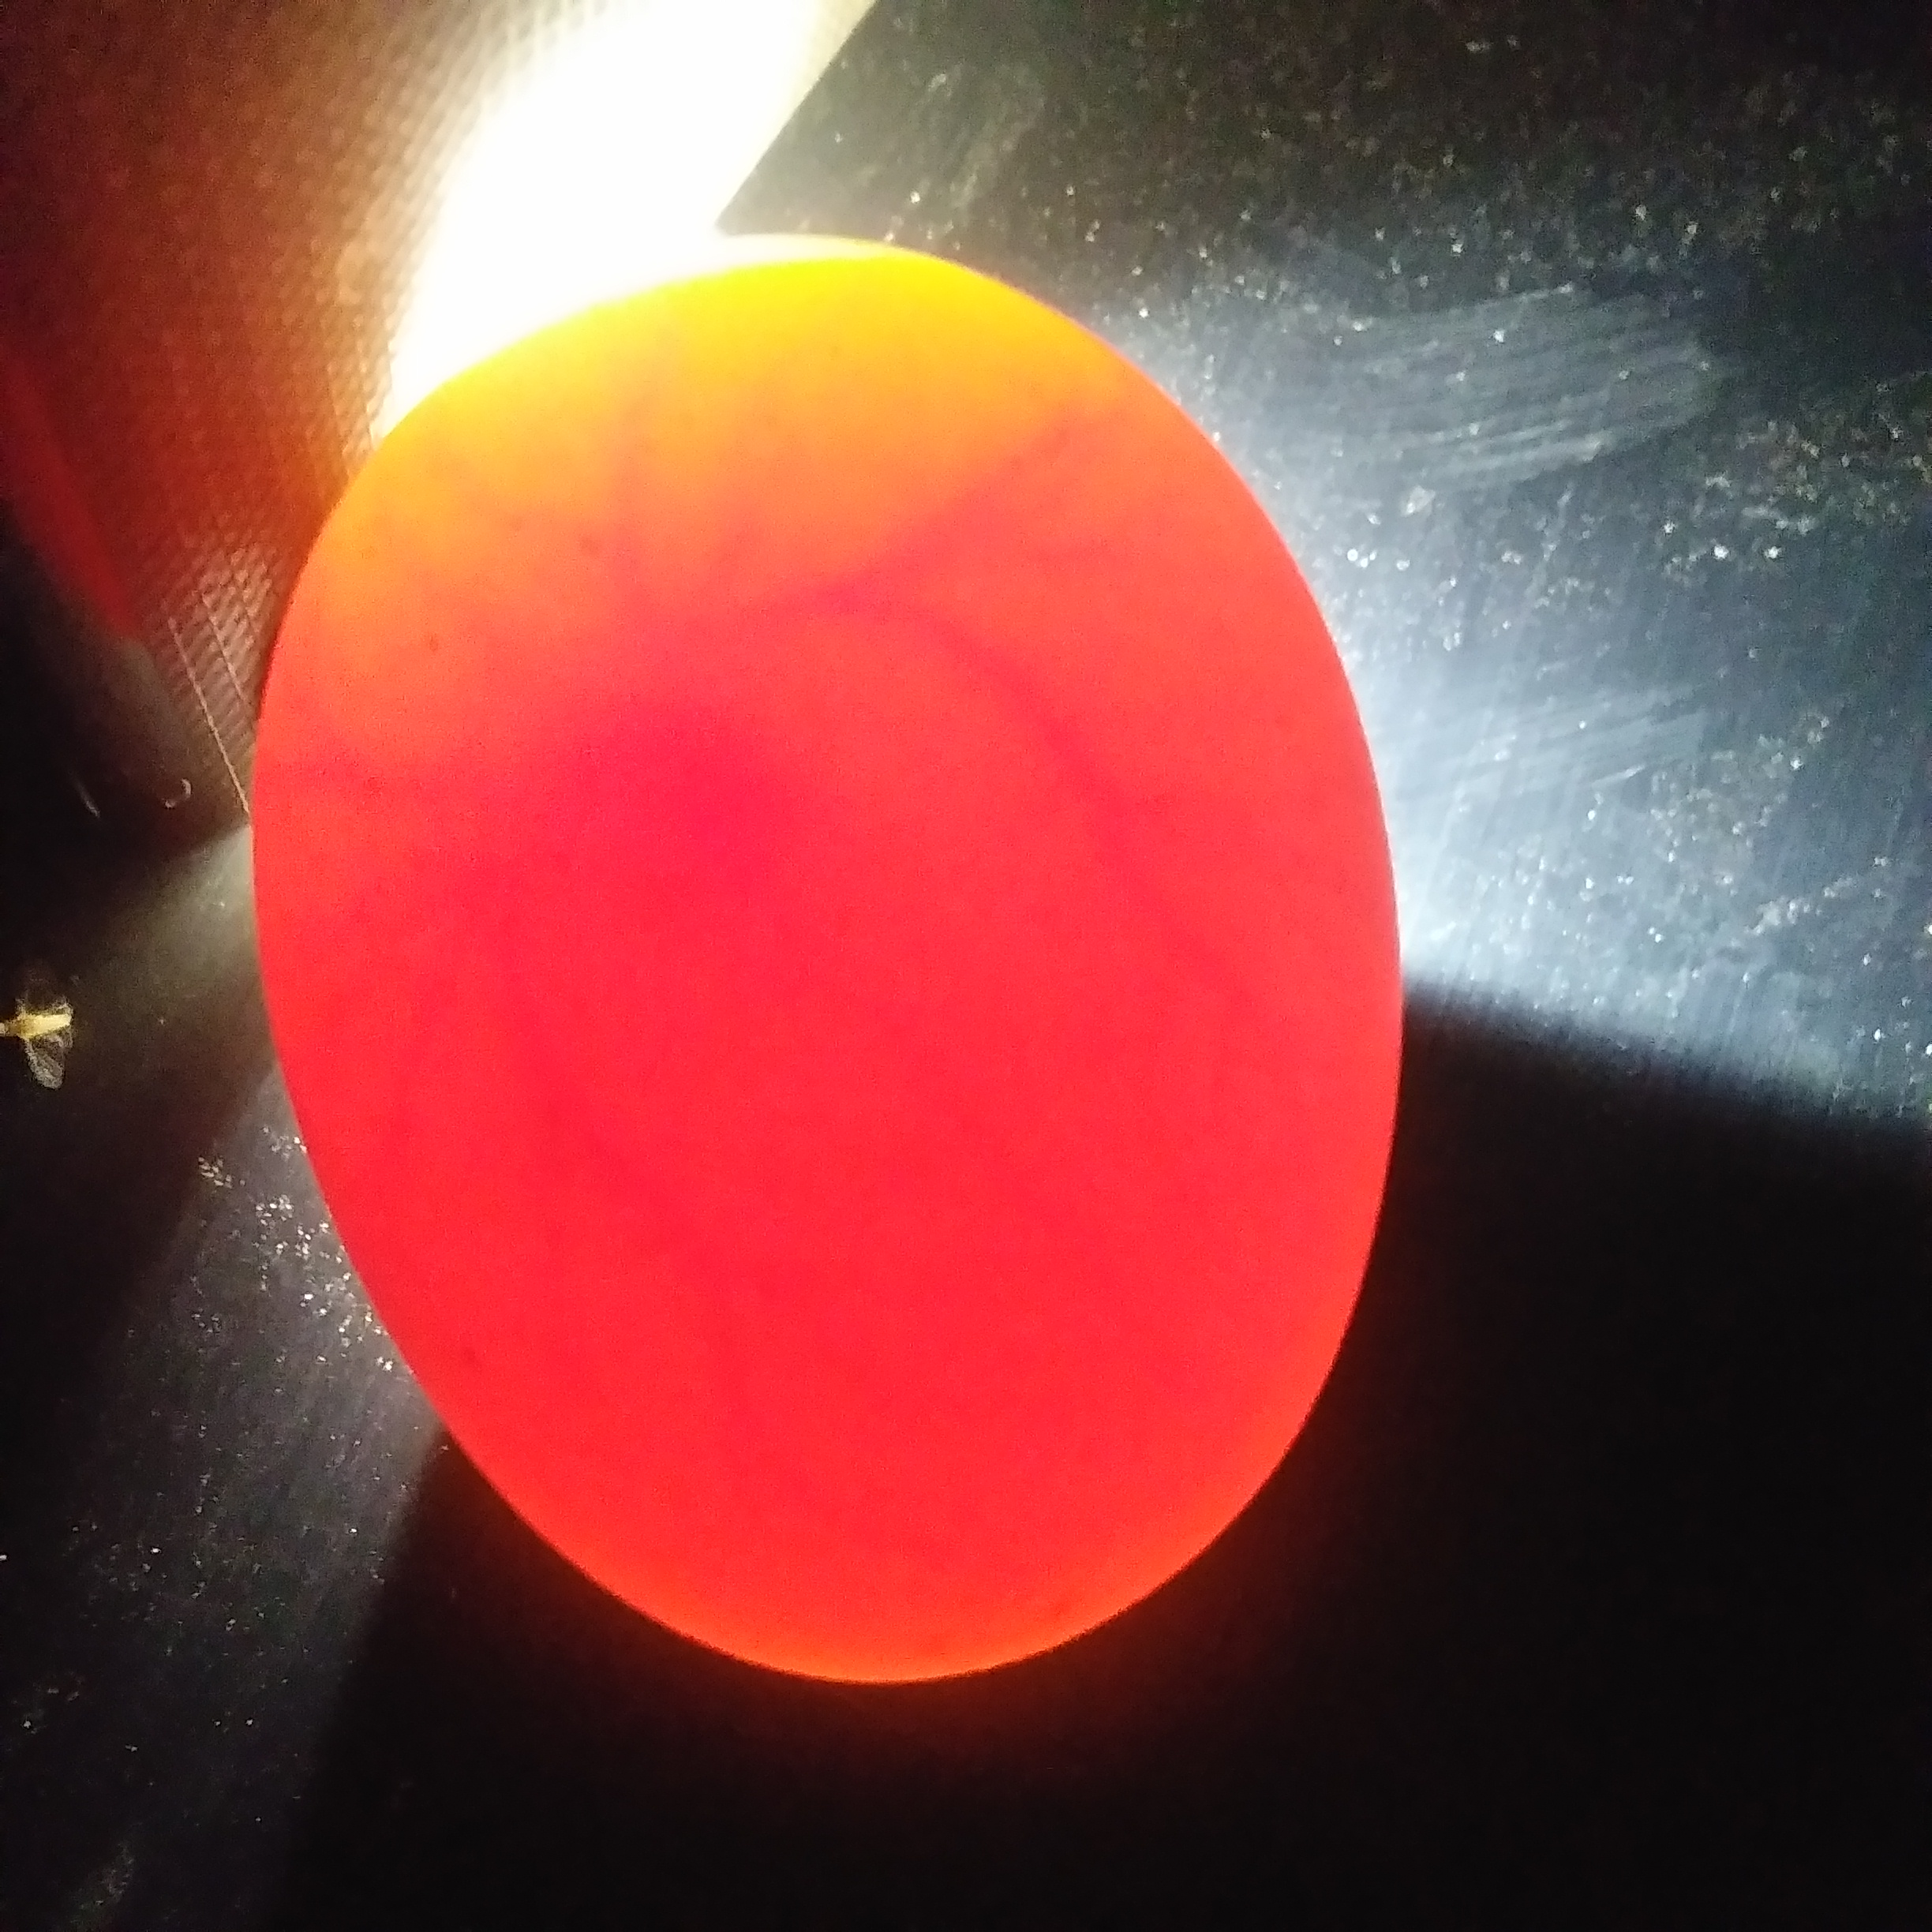bloodcell: (796, 357, 1154, 1169)
embryo: (547, 621, 745, 821)
